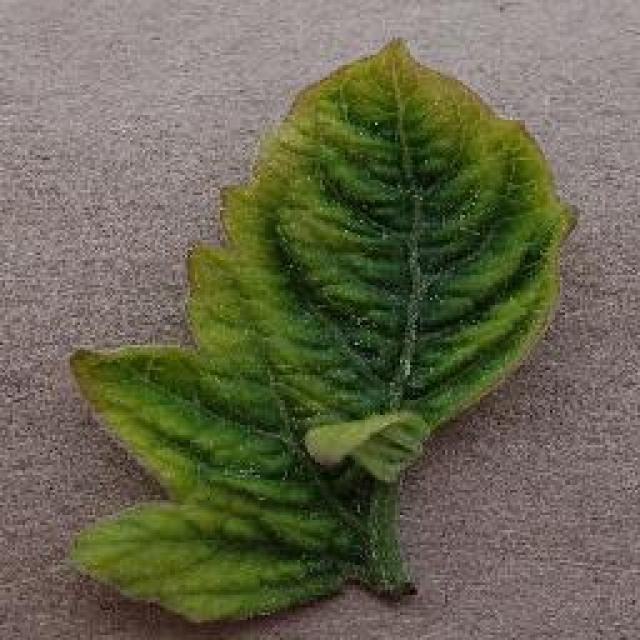Tomato yellow virus leaf: (54, 35, 578, 627)
